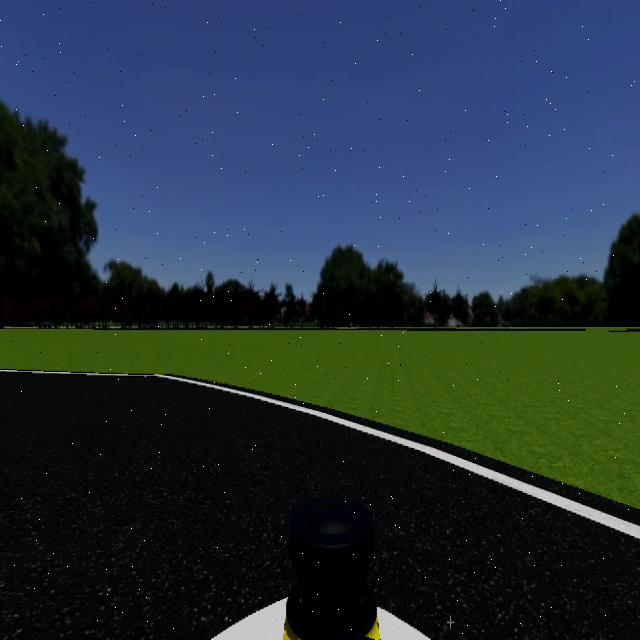road: (0, 375, 640, 640)
solid_line: (143, 374, 640, 542)
